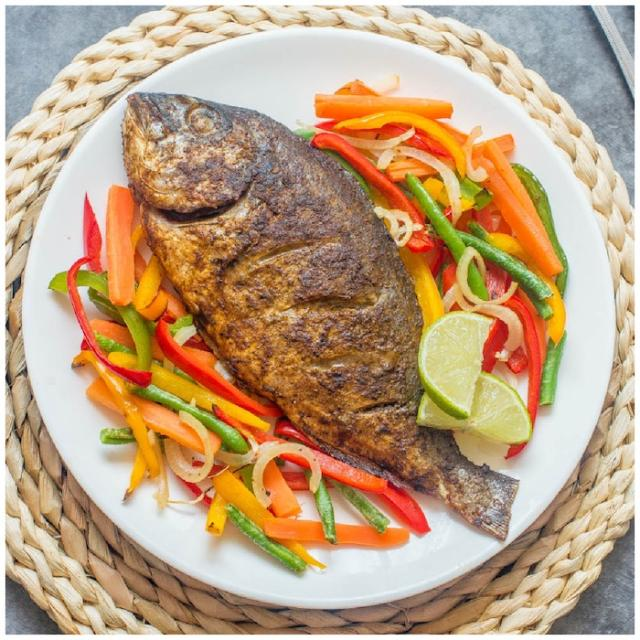ca chien: (122, 92, 517, 539)
